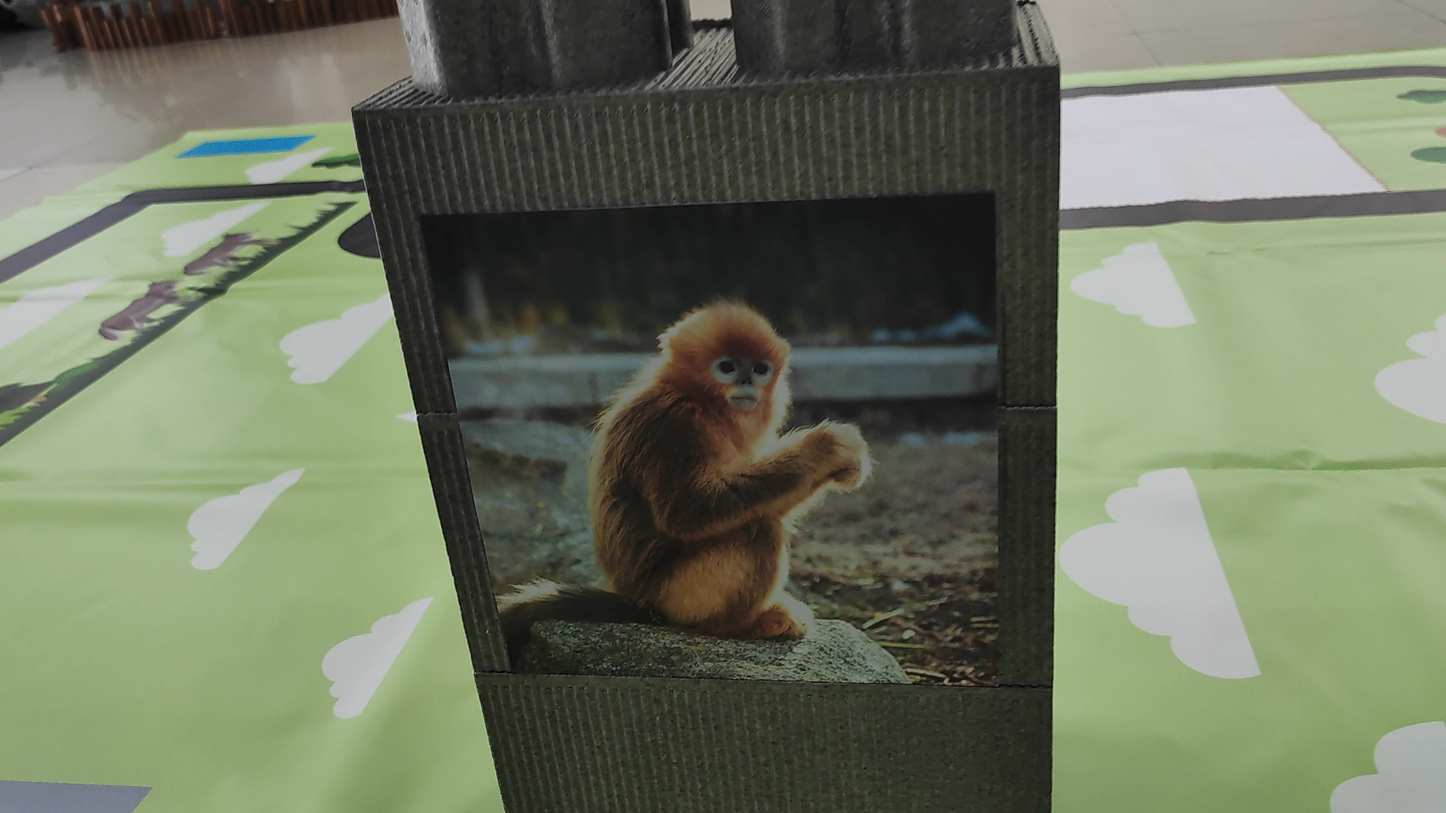monkey: (487, 251, 959, 646)
